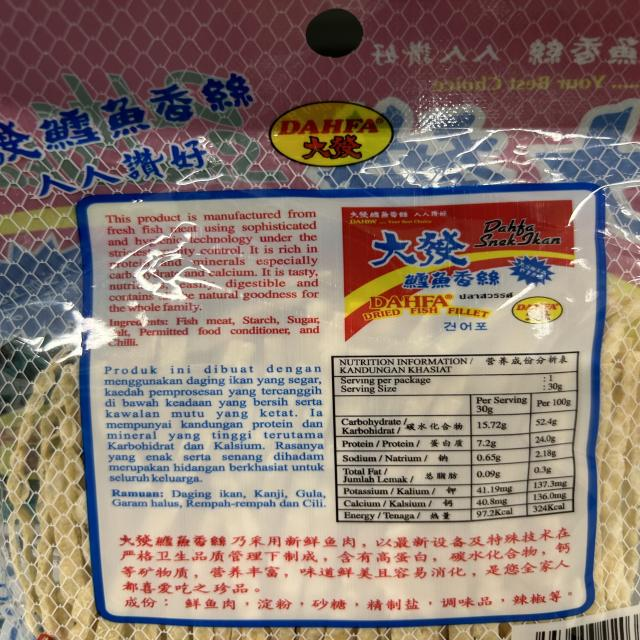object_name: (10, 12, 609, 640)
